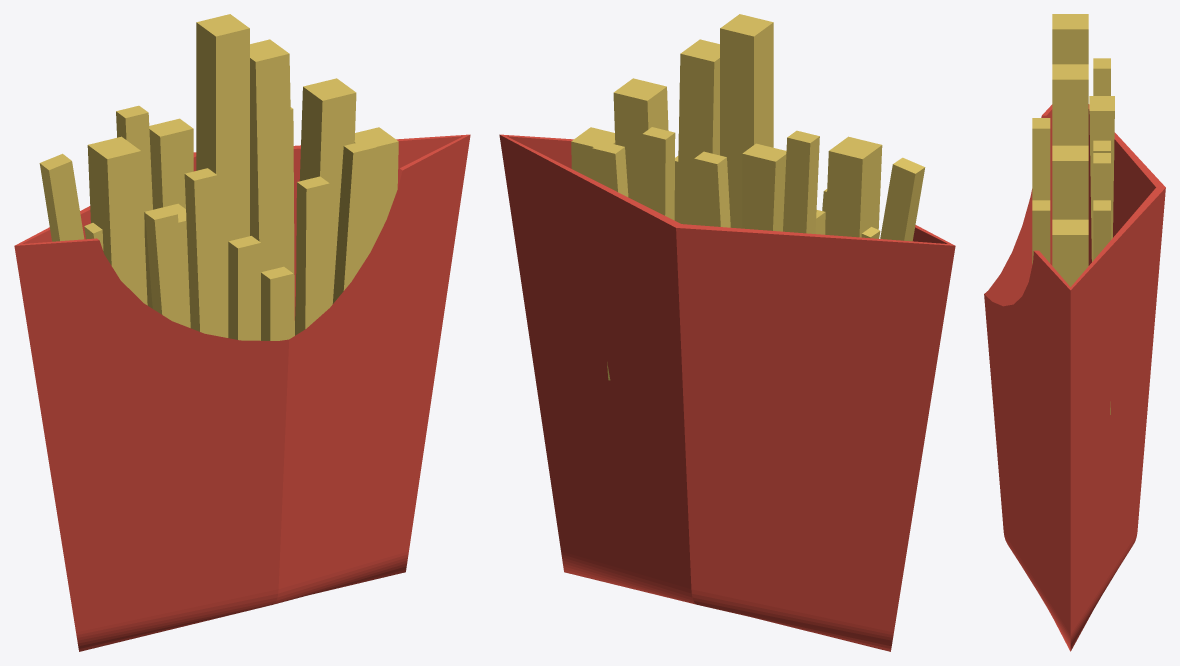
File: Frenchfries.fbx
3 views of the same model, side by side, from view 1: azimuth 30°, elevation 25°; view 2: azimuth 150°, elevation 25°; view 3: azimuth 270°, elevation 25° (orthographic). The views are drawn at different scales.
Visible parts, largest first — view 1: Box; view 2: Box; view 3: Box.
Boxes of the visible parts, x1,y1,x2,y2 form: Box: (14,14,470,651); Box: (499,14,955,651); Box: (984,14,1165,651).
Size of the model in its own units: 139 by 172 by 51.77.
